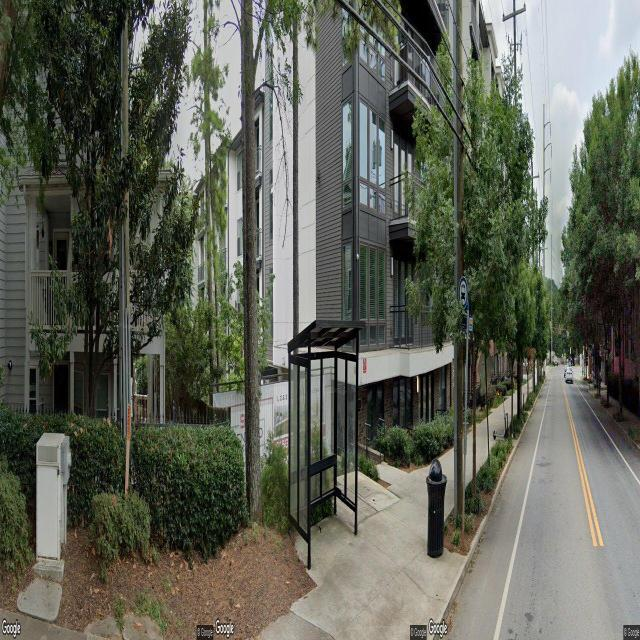shelter: (287, 318, 366, 570)
trash_can: (426, 459, 448, 559)
